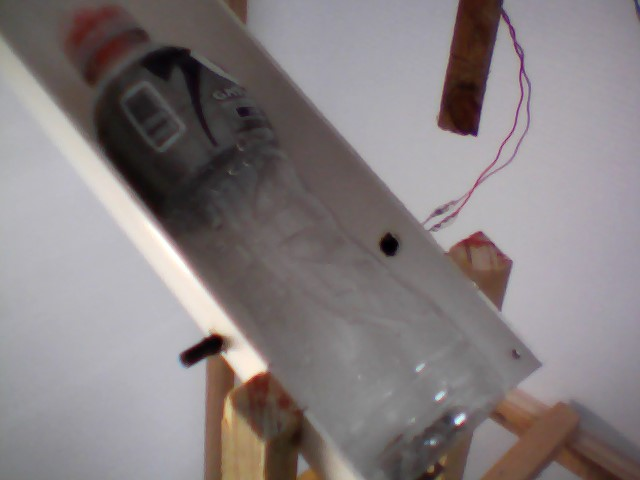plastico: (56, 6, 514, 479)
